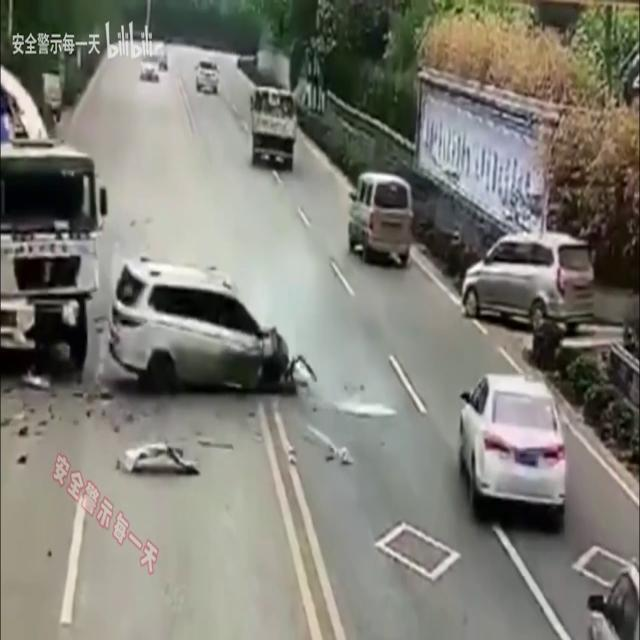multiple_accident: (0, 35, 343, 453)
normal: (435, 345, 605, 568), (453, 220, 617, 348), (215, 8, 315, 185), (330, 153, 440, 272)
